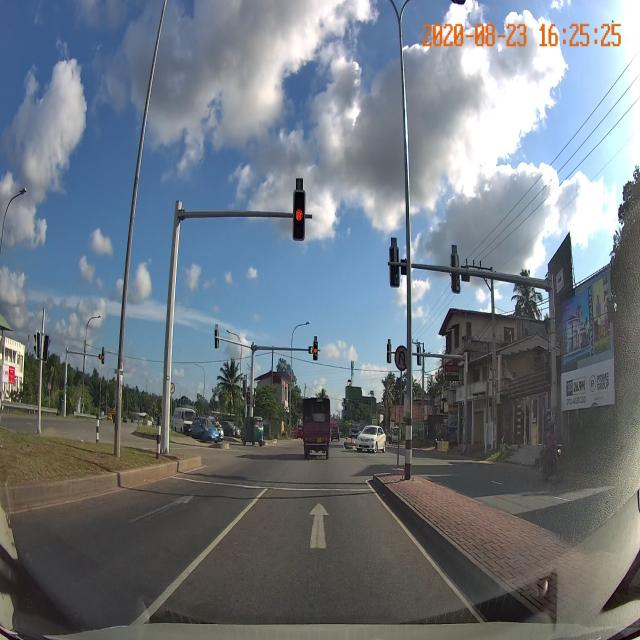diamond: (195, 492, 437, 564)
